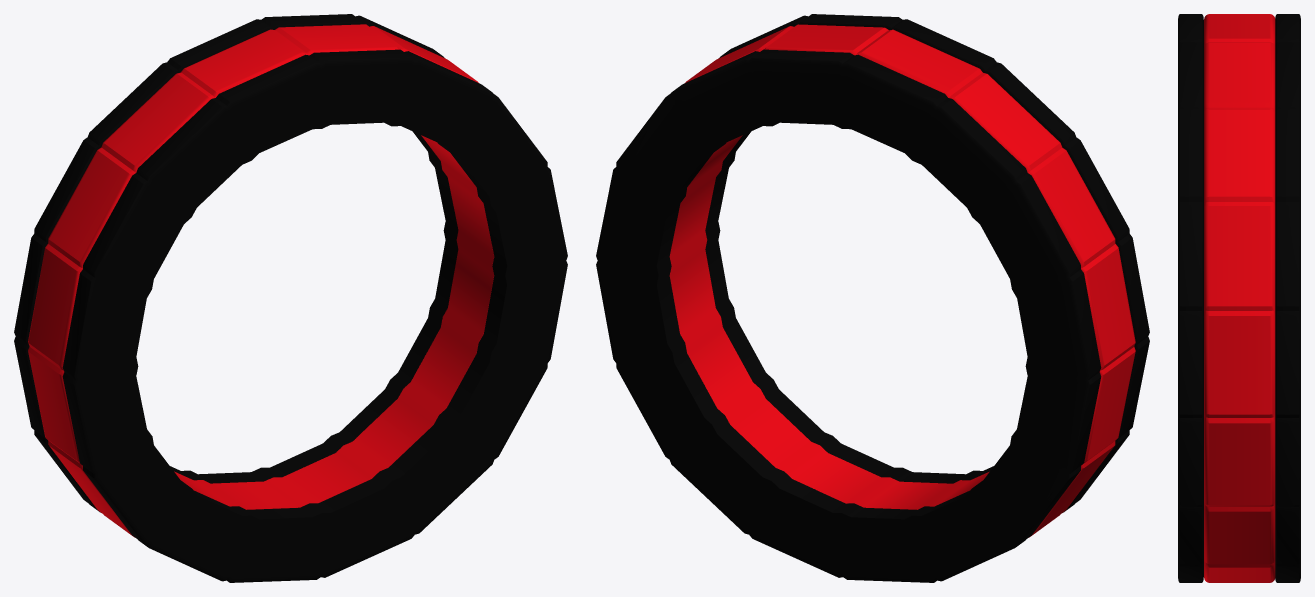
The model's file is BarceletV1.fbx.
The picture shows the model from 3 angles, left to right: view 1: azimuth 30°, elevation 25°; view 2: azimuth 150°, elevation 25°; view 3: azimuth 270°, elevation 25°; orthographic projection.
Parts seen in each view (by area): view 1: SideStrip2, MiddleStrip, SideStrip1; view 2: SideStrip1, MiddleStrip, SideStrip2; view 3: MiddleStrip, SideStrip1, SideStrip2.
Part boxes in pixels (left/top/right/bottom): SideStrip2: left=62, top=49, right=567, bottom=582; MiddleStrip: left=28, top=24, right=494, bottom=537; SideStrip1: left=14, top=14, right=458, bottom=512; SideStrip1: left=596, top=49, right=1101, bottom=582; MiddleStrip: left=669, top=24, right=1135, bottom=537; SideStrip2: left=705, top=14, right=1149, bottom=512; MiddleStrip: left=1204, top=14, right=1275, bottom=582; SideStrip1: left=1275, top=14, right=1300, bottom=582; SideStrip2: left=1178, top=14, right=1203, bottom=582.
Bounding box in the file's own units: 1.99 × 1.99 × 0.4302.
